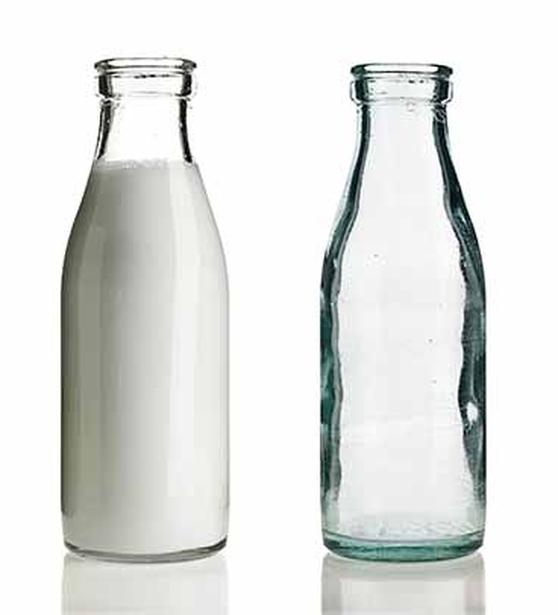milk: (54, 48, 239, 568)
